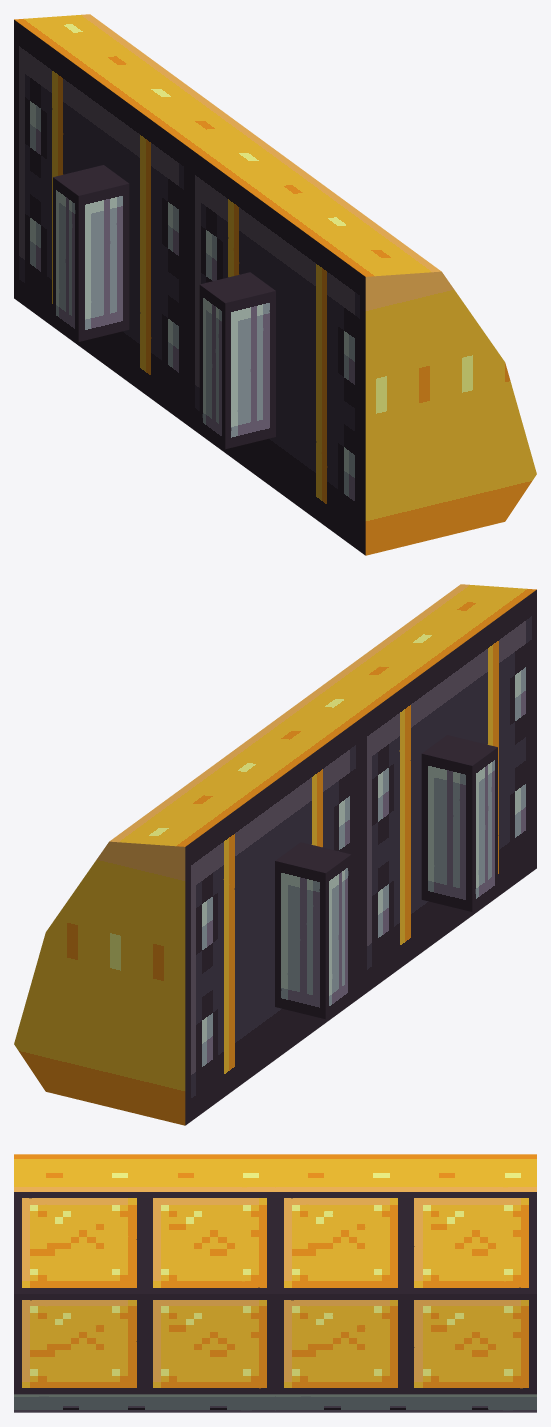
File: plow.glb
The picture shows the model from 3 angles, top to bottom: view 1: azimuth 30°, elevation 25°; view 2: azimuth 150°, elevation 25°; view 3: azimuth 270°, elevation 25°; orthographic projection. The views are drawn at different scales.
Parts seen in each view (by area): view 1: blade; view 2: blade; view 3: blade.
Part boxes in pixels (x1,y1,x2,y2): blade: (14, 14, 536, 555); blade: (14, 584, 536, 1125); blade: (14, 1154, 536, 1412).
Size of the model in its own units: 0.35 by 0.42 by 0.96.
Materials: 1 (1 with a texture image).
